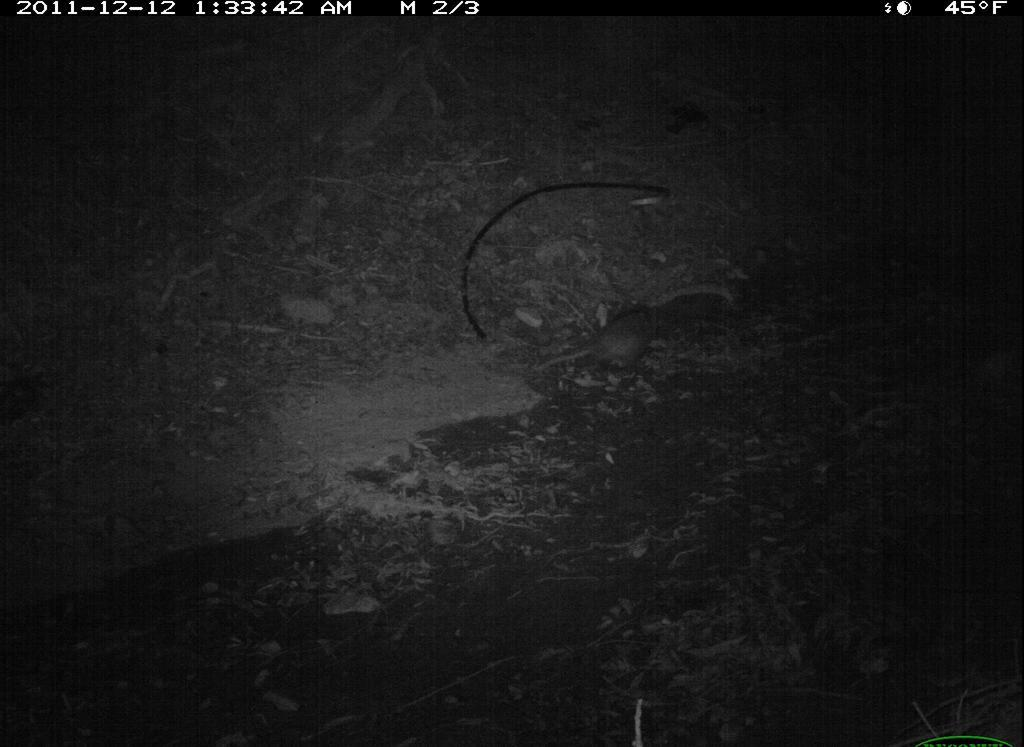opossum: (530, 294, 713, 405)
